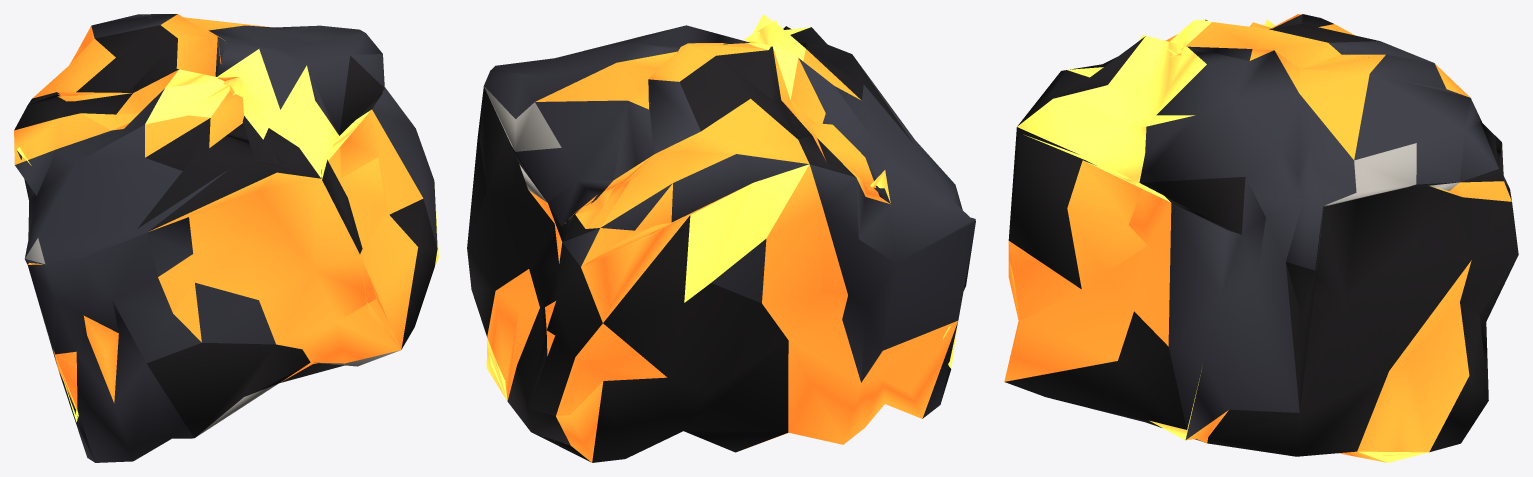
Rendered from ember_coal_hot_a_lod1.glb.
3 renders of one model, left to right at view 1: azimuth 30°, elevation 25°; view 2: azimuth 150°, elevation 25°; view 3: azimuth 270°, elevation 25°, orthographic. The views are drawn at different scales.
Parts seen in each view (by area): view 1: ember_coal_hot_a.001; view 2: ember_coal_hot_a.001; view 3: ember_coal_hot_a.001.
Boxes of the visible parts, x1=… form: ember_coal_hot_a.001: x1=14, y1=14, x2=438, y2=462; ember_coal_hot_a.001: x1=467, y1=14, x2=975, y2=462; ember_coal_hot_a.001: x1=1004, y1=14, x2=1518, y2=462.
Bounding box in the file's own units: 2.57 × 2 × 2.32.
